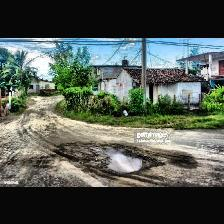pothole: (106, 150, 142, 172)
